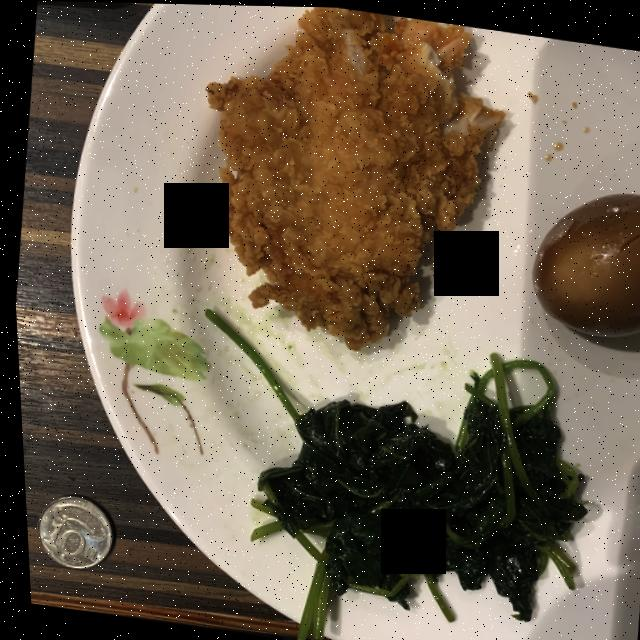coin: (32, 495, 107, 568)
fried chicken cutlet: (205, 5, 503, 348)
soy egg: (529, 190, 640, 334)
sweet potato leaves: (202, 308, 580, 640)
